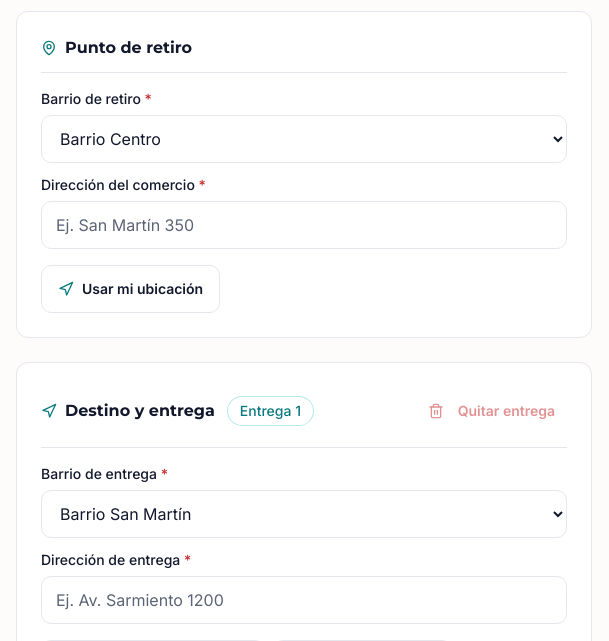
Test: T-340: CreateRequestForm multi-drop › botón «Agregar otra entrega» añade una nueva tarjeta con valores independientes
Note: Escribir datos en drop 1
Type "Av. Sarmiento 100" into the field labelled "Dirección de entrega *" at (304, 600), box left=41, top=576, right=567, bottom=624
(page scrolled)
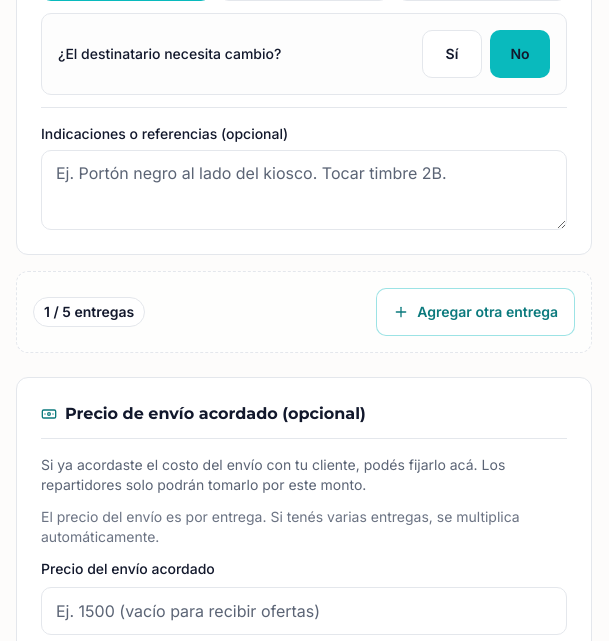
Note: Agregar segunda entrega
Click the button "Agregar otra entrega" at (476, 312), box left=376, top=288, right=575, bottom=336
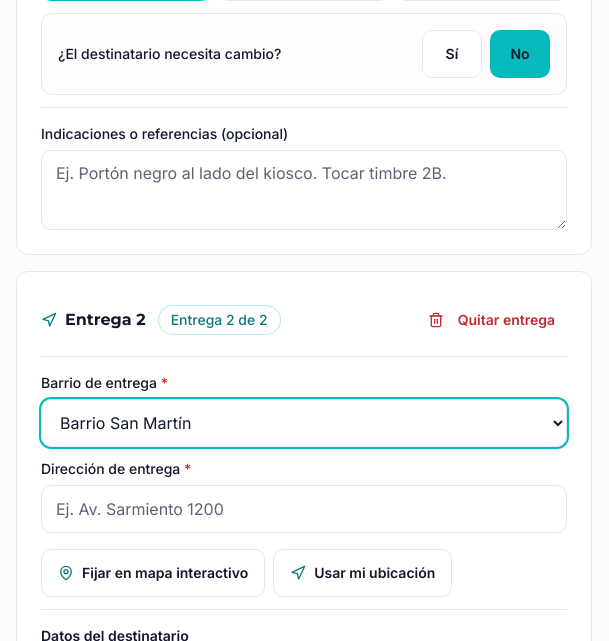
Check: the heading "Entrega 2" is shown, box left=65, top=308, right=146, bottom=332
Check: the field labelled "Dirección de entrega *" is empty, box left=41, top=484, right=567, bottom=532
